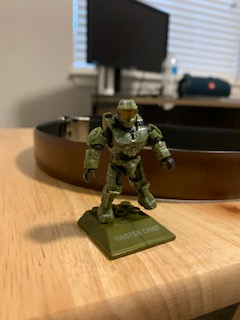chief: (82, 97, 175, 226)
spartan: (80, 95, 173, 224)
